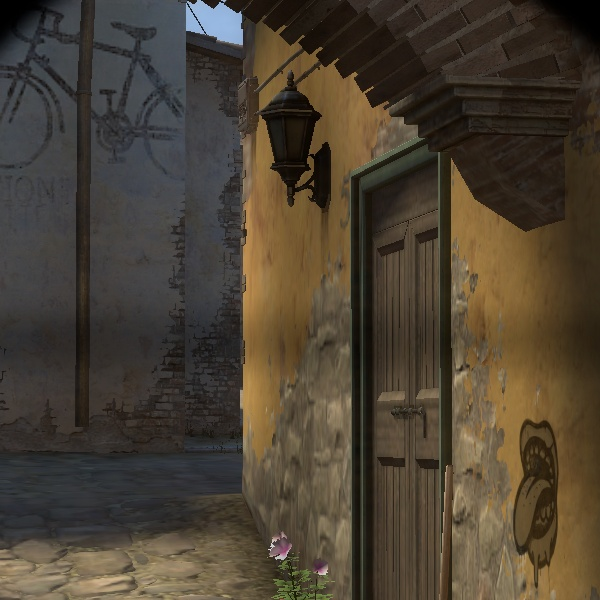t_body: (3, 0, 542, 599)
